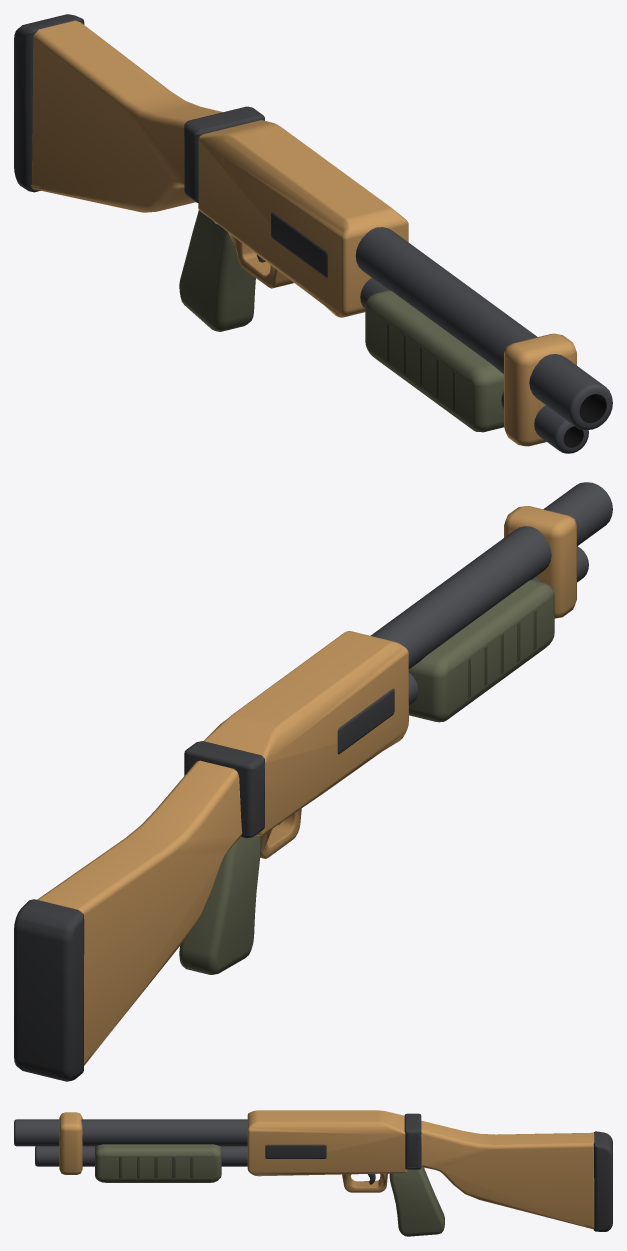
Rendered from shotgun.glb.
3 views of the same model, one above another, from view 1: azimuth 30°, elevation 25°; view 2: azimuth 150°, elevation 25°; view 3: azimuth 270°, elevation 25° (orthographic). The views are drawn at different scales.
Visible parts, largest first — view 1: shotgun_stock, shotgun_receiver, shotgun_barrel, shotgun_pump, shotgun_grip, shotgun_barrel_clamp, shotgun_tube_magazine; view 2: shotgun_stock, shotgun_receiver, shotgun_barrel, shotgun_pump, shotgun_grip, shotgun_barrel_clamp; view 3: shotgun_stock, shotgun_receiver, shotgun_barrel, shotgun_pump, shotgun_grip, shotgun_barrel_clamp, shotgun_tube_magazine.
Part boxes in pixels (x1,y1,x2,y2): shotgun_stock: [14, 14, 222, 212]; shotgun_receiver: [184, 106, 408, 317]; shotgun_barrel: [355, 227, 612, 430]; shotgun_pump: [365, 290, 503, 432]; shotgun_grip: [179, 210, 255, 331]; shotgun_barrel_clamp: [504, 333, 576, 446]; shotgun_tube_magazine: [360, 278, 588, 453]; shotgun_stock: [14, 760, 242, 1081]; shotgun_receiver: [184, 631, 408, 858]; shotgun_barrel: [370, 482, 612, 669]; shotgun_pump: [408, 580, 554, 722]; shotgun_grip: [179, 835, 260, 974]; shotgun_barrel_clamp: [504, 506, 576, 618]; shotgun_stock: [421, 1120, 612, 1231]; shotgun_receiver: [247, 1110, 421, 1192]; shotgun_barrel: [14, 1119, 248, 1146]; shotgun_pump: [95, 1144, 221, 1182]; shotgun_grip: [389, 1167, 444, 1236]; shotgun_barrel_clamp: [59, 1112, 82, 1174]; shotgun_tube_magazine: [35, 1146, 247, 1166].
Size of the model in its own units: 0.0812 by 0.2052 by 0.95.
